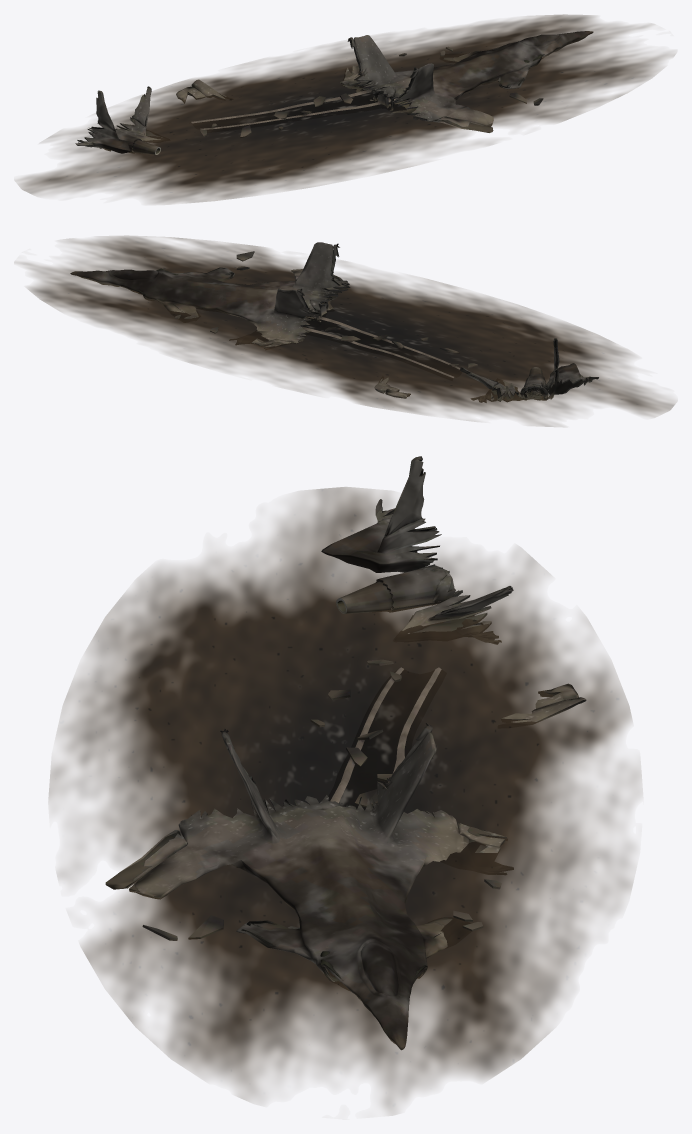
File: b11_wreck_plane_b.glb
3 renders of one model, top to bottom at view 1: azimuth 30°, elevation 25°; view 2: azimuth 150°, elevation 25°; view 3: azimuth 270°, elevation 25°, orthographic. The views are drawn at different scales.
Visible parts, largest first — view 1: scorch, wreck; view 2: scorch, wreck; view 3: scorch, wreck.
Boxes of the visible parts, x1,y1,x2,y2 form: scorch: (15,14,675,204); wreck: (75,31,593,154); scorch: (15,236,675,426); wreck: (70,242,598,402); scorch: (49,487,641,1114); wreck: (105,456,586,1050).
Bounding box in the file's own units: 1.24 × 0.1167 × 0.4933.
Materials: 2 (2 with a texture image).
